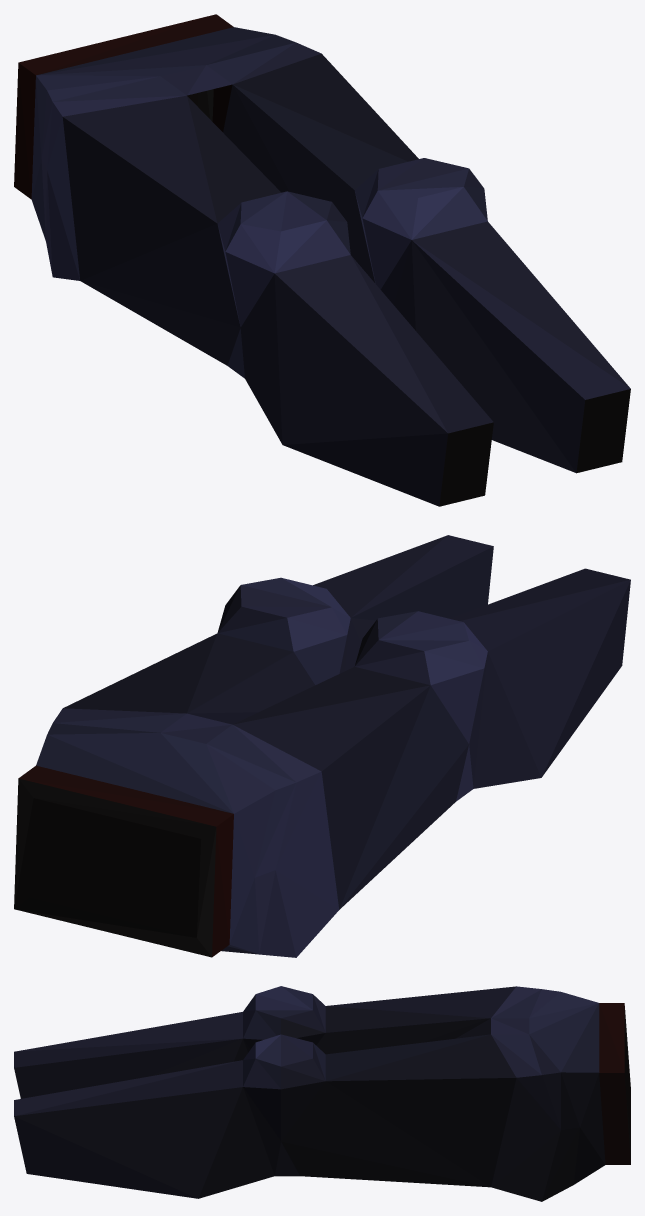
Rendered from mithril-platelegs.obj.
The picture shows the model from 3 angles, top to bottom: view 1: azimuth 30°, elevation 25°; view 2: azimuth 150°, elevation 25°; view 3: azimuth 270°, elevation 25°; orthographic projection. The views are drawn at different scales.
Parts seen in each view (by area): view 1: Item Mithril platelegs 2026-09-24_18-14-04; view 2: Item Mithril platelegs 2026-09-24_18-14-04; view 3: Item Mithril platelegs 2026-09-24_18-14-04.
Boxes of the visible parts, x1,y1,x2,y2 form: Item Mithril platelegs 2026-09-24_18-14-04: [14, 14, 630, 506]; Item Mithril platelegs 2026-09-24_18-14-04: [14, 535, 630, 957]; Item Mithril platelegs 2026-09-24_18-14-04: [14, 986, 630, 1201].
Size of the model in its own units: 34 by 24 by 97.
